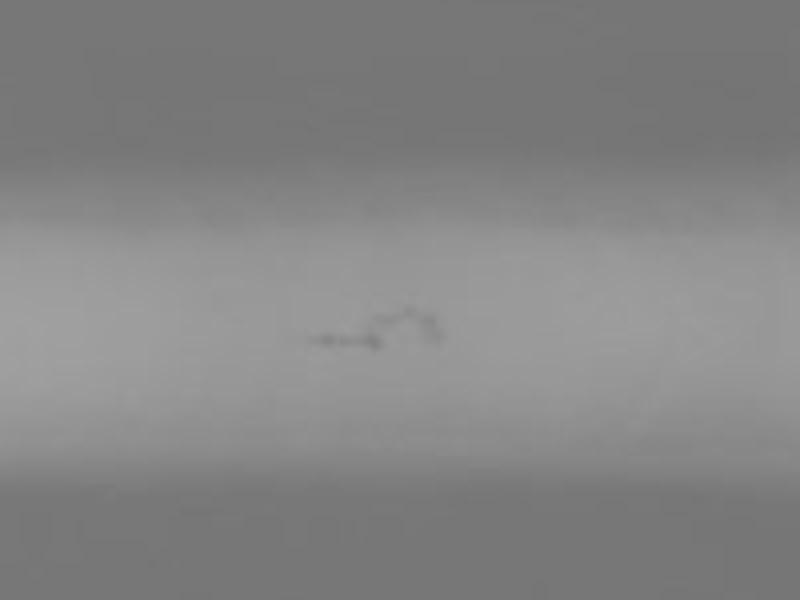defect: (424, 315, 447, 351), (371, 307, 398, 325), (361, 331, 383, 352), (399, 301, 416, 323), (315, 332, 333, 350), (337, 334, 356, 349)
